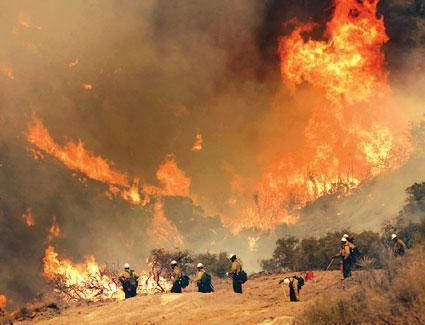fire: (246, 1, 418, 207), (24, 113, 190, 210), (38, 243, 126, 303)
